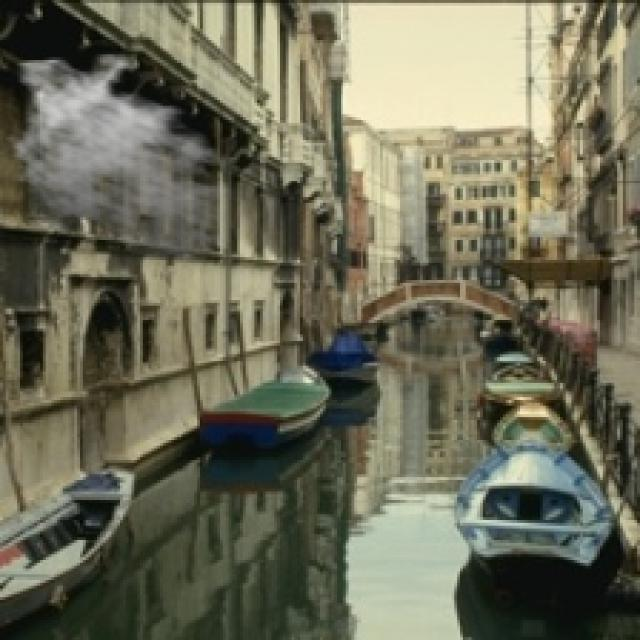Smoke: (2, 51, 252, 266)
